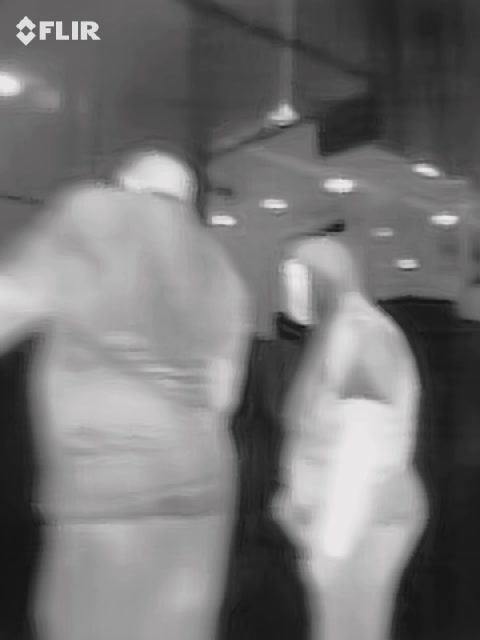head: (280, 242, 355, 323), (118, 152, 194, 204)
